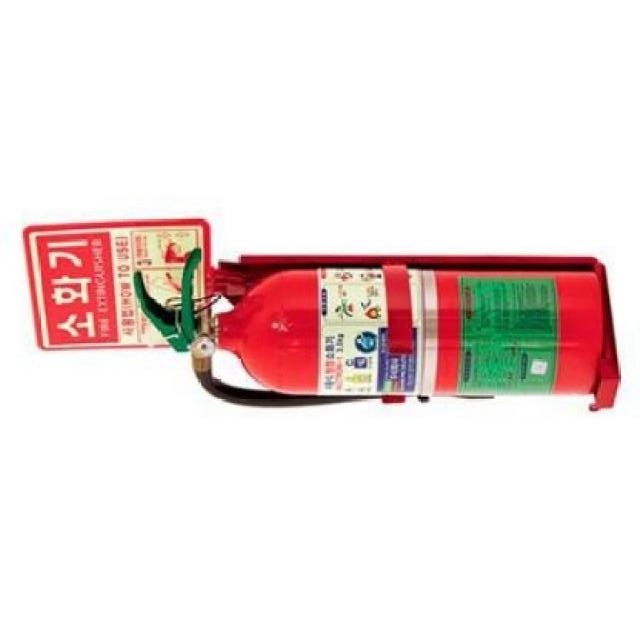fire extinguisher: (132, 248, 603, 409)
